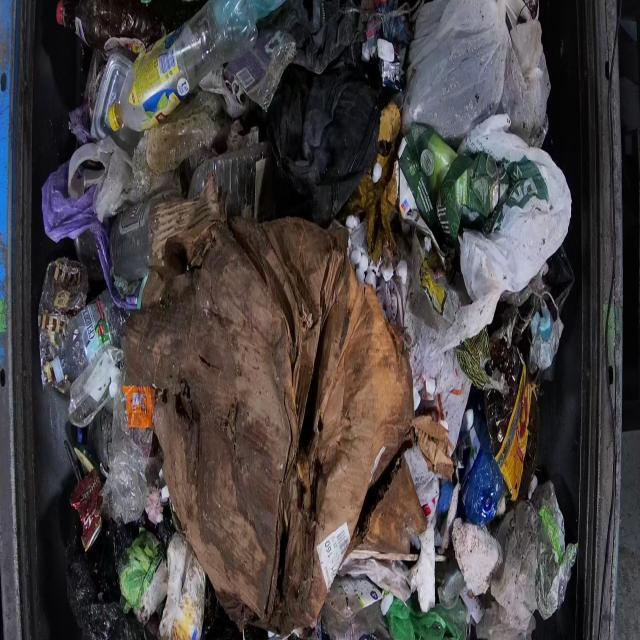other-trash: (36, 0, 576, 638)
